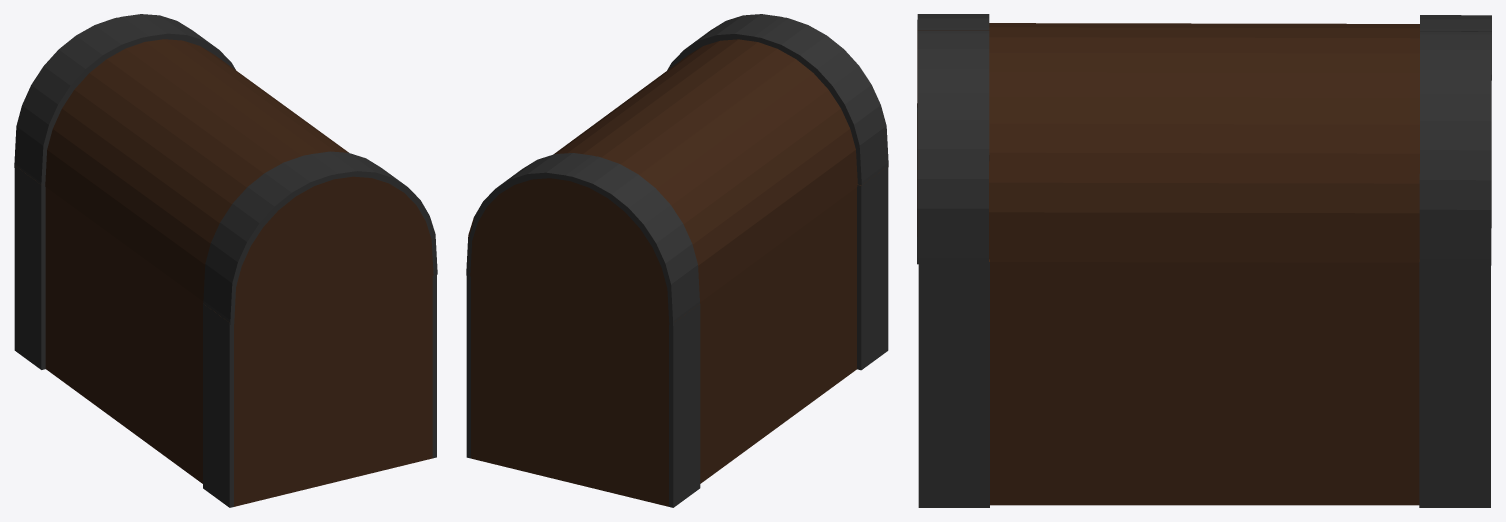
The model's file is chest.obj.
3 renders of one model, left to right at view 1: azimuth 30°, elevation 25°; view 2: azimuth 150°, elevation 25°; view 3: azimuth 270°, elevation 25°, orthographic. The views are drawn at different scales.
Visible parts, largest first — view 1: Cube, Circle; view 2: Circle, Cube; view 3: Cube, Circle.
Part boxes in pixels (bbox=[...]): Cube: bbox=[14, 166, 436, 507]; Circle: bbox=[14, 14, 437, 324]; Circle: bbox=[466, 14, 888, 325]; Cube: bbox=[466, 166, 888, 507]; Cube: bbox=[918, 259, 1490, 507]; Circle: bbox=[917, 14, 1491, 265].
Bounding box in the file's own units: 2.71 × 3.85 × 4.89.
